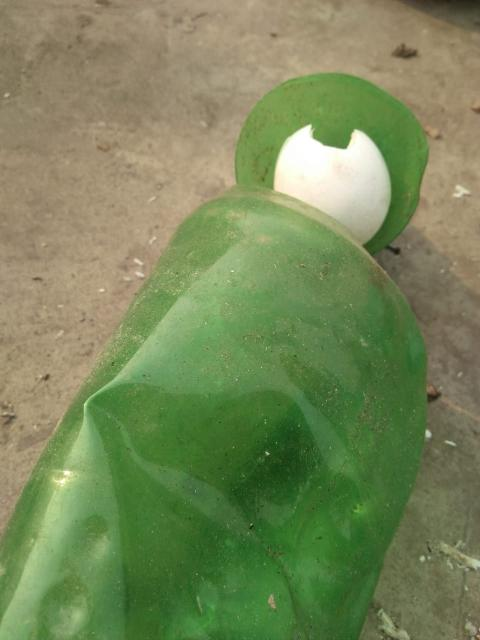Roto: (274, 122, 394, 245)
